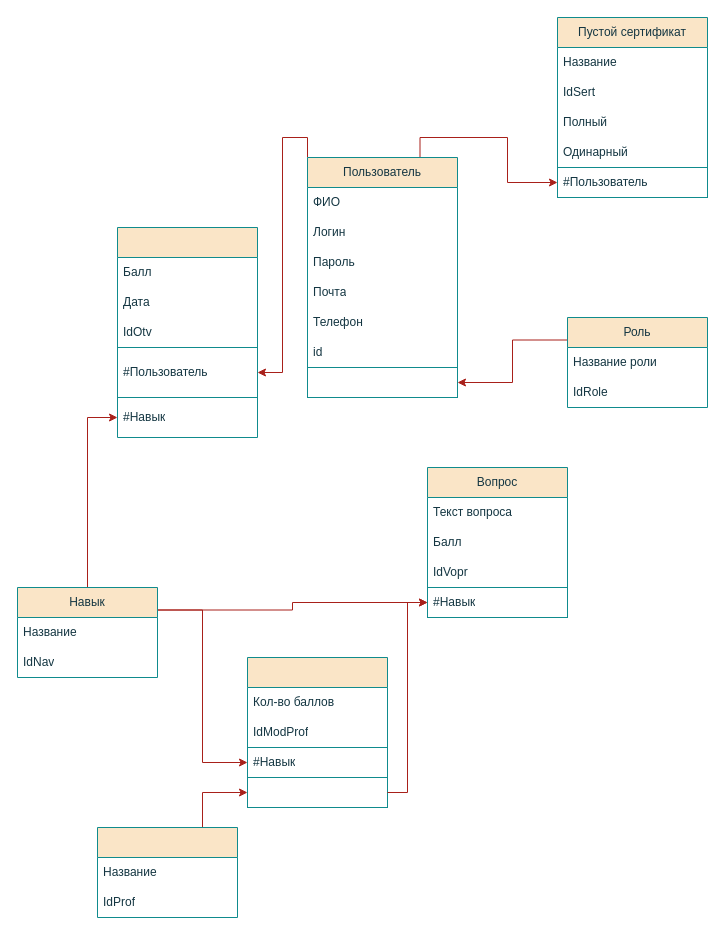
Image size: 725x935. Some labels were removed from this diagram. Each missing label, with the box of its shape:
#Профессия: (246, 776, 388, 808)
#Роль: (306, 366, 458, 398)
Модельная профессия: (246, 656, 388, 808)
Ответы: (116, 226, 258, 438)
Профессия: (96, 826, 238, 918)
